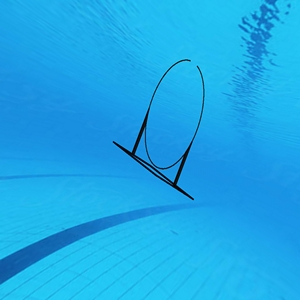circle: (111, 55, 212, 204)
